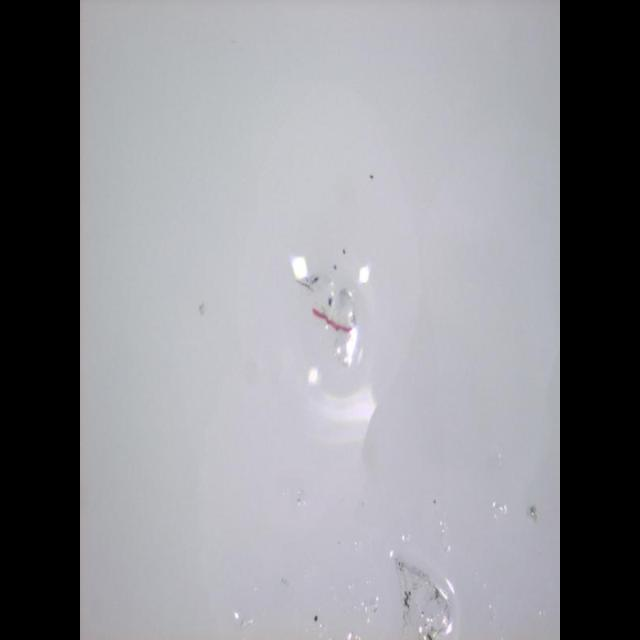Fibre: (292, 250, 371, 370)
